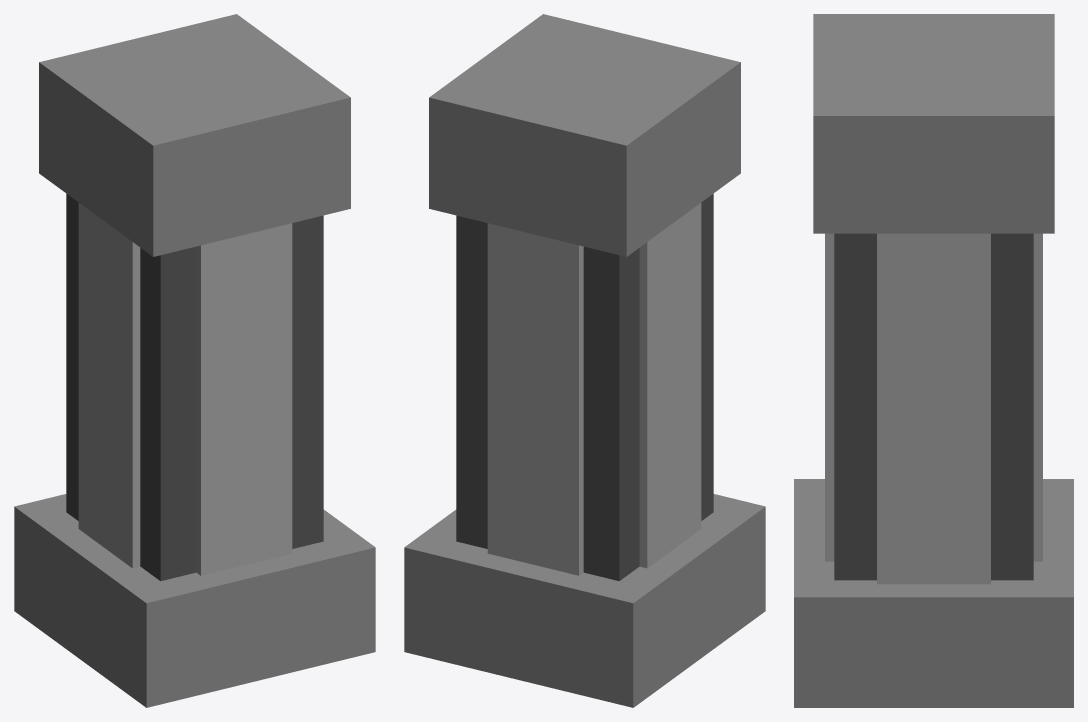
File: Railing Pillar 01.FBX
The picture shows the model from 3 angles, left to right: view 1: azimuth 30°, elevation 25°; view 2: azimuth 150°, elevation 25°; view 3: azimuth 270°, elevation 25°; orthographic projection. The views are drawn at different scales.
Parts seen in each view (by area): view 1: Railing Pillar 01; view 2: Railing Pillar 01; view 3: Railing Pillar 01.
Part boxes in pixels (x1,y1,x2,y2): Railing Pillar 01: (14, 14, 375, 707); Railing Pillar 01: (404, 14, 765, 707); Railing Pillar 01: (794, 14, 1073, 707).
Size of the model in its own units: 40.26 by 92.63 by 40.26.
